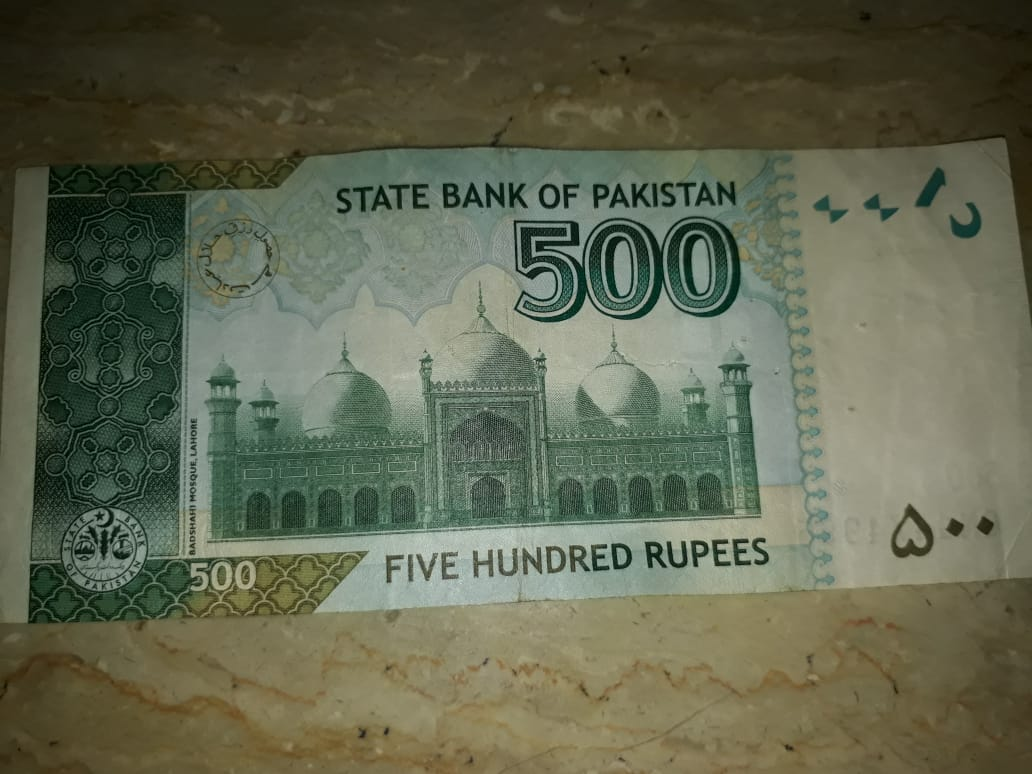500 rupee: (15, 148, 1025, 604)
